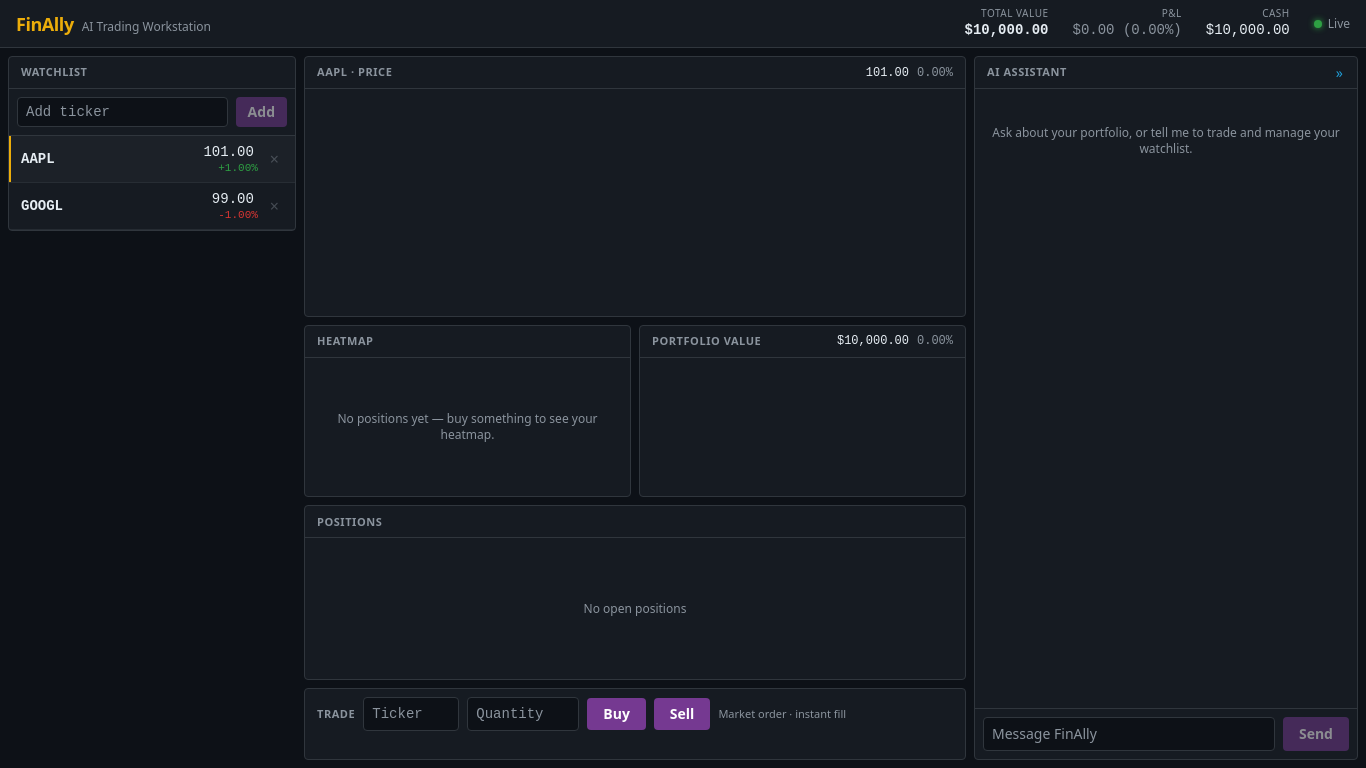
Terminal layout › streams prices into the watchlist and selects tickers into chart + trade bar
expect the text with test id "price" reads "99.00": met, box [212, 191, 254, 207]
Click the button with test id "watchlist-row-GOOGL": (152, 206) [9, 183, 295, 230]
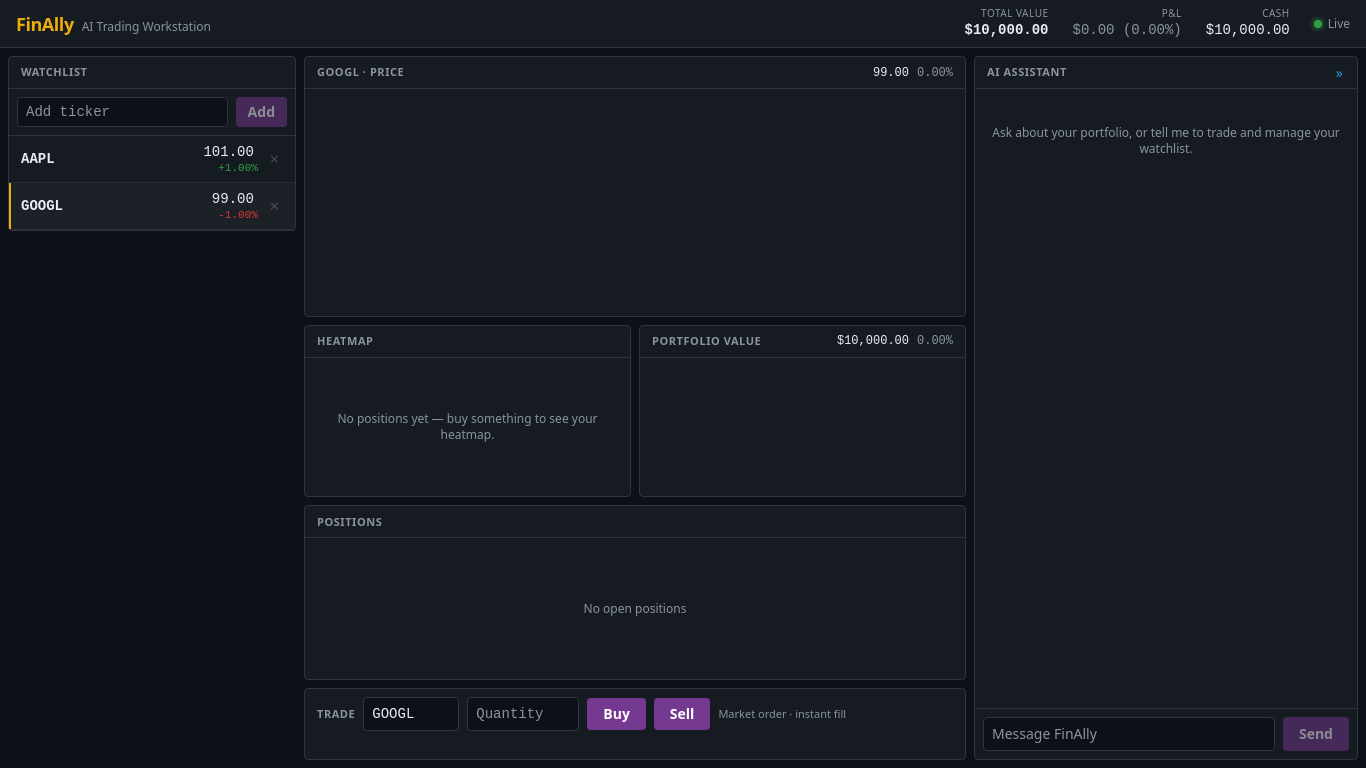
expect the field named "Trade ticker" holds "GOOGL": met, box [363, 697, 459, 731]
expect the element with test id "main-chart" shows "GOOGL": met, box [317, 64, 404, 79]
